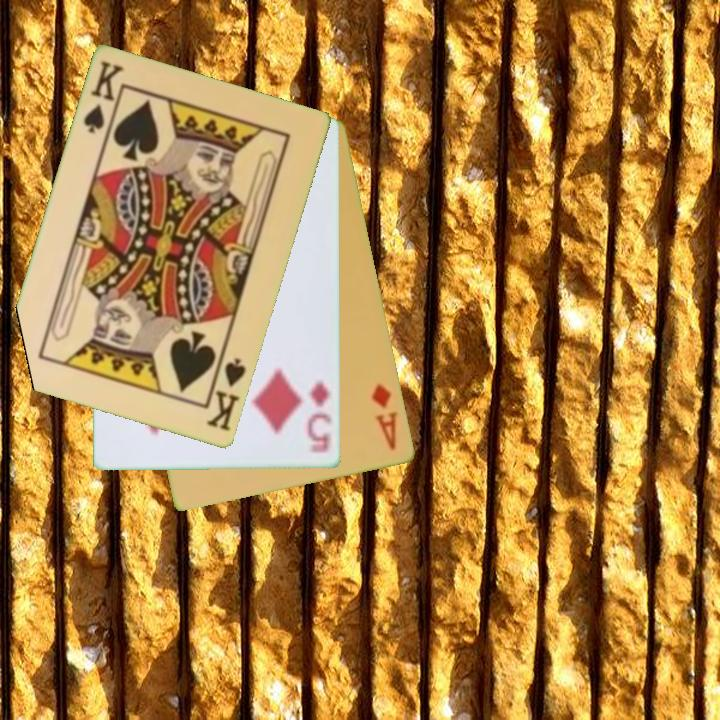5d: (304, 378, 334, 456)
Ad: (368, 380, 401, 454)
Ks: (80, 58, 128, 137), (203, 355, 249, 435)
